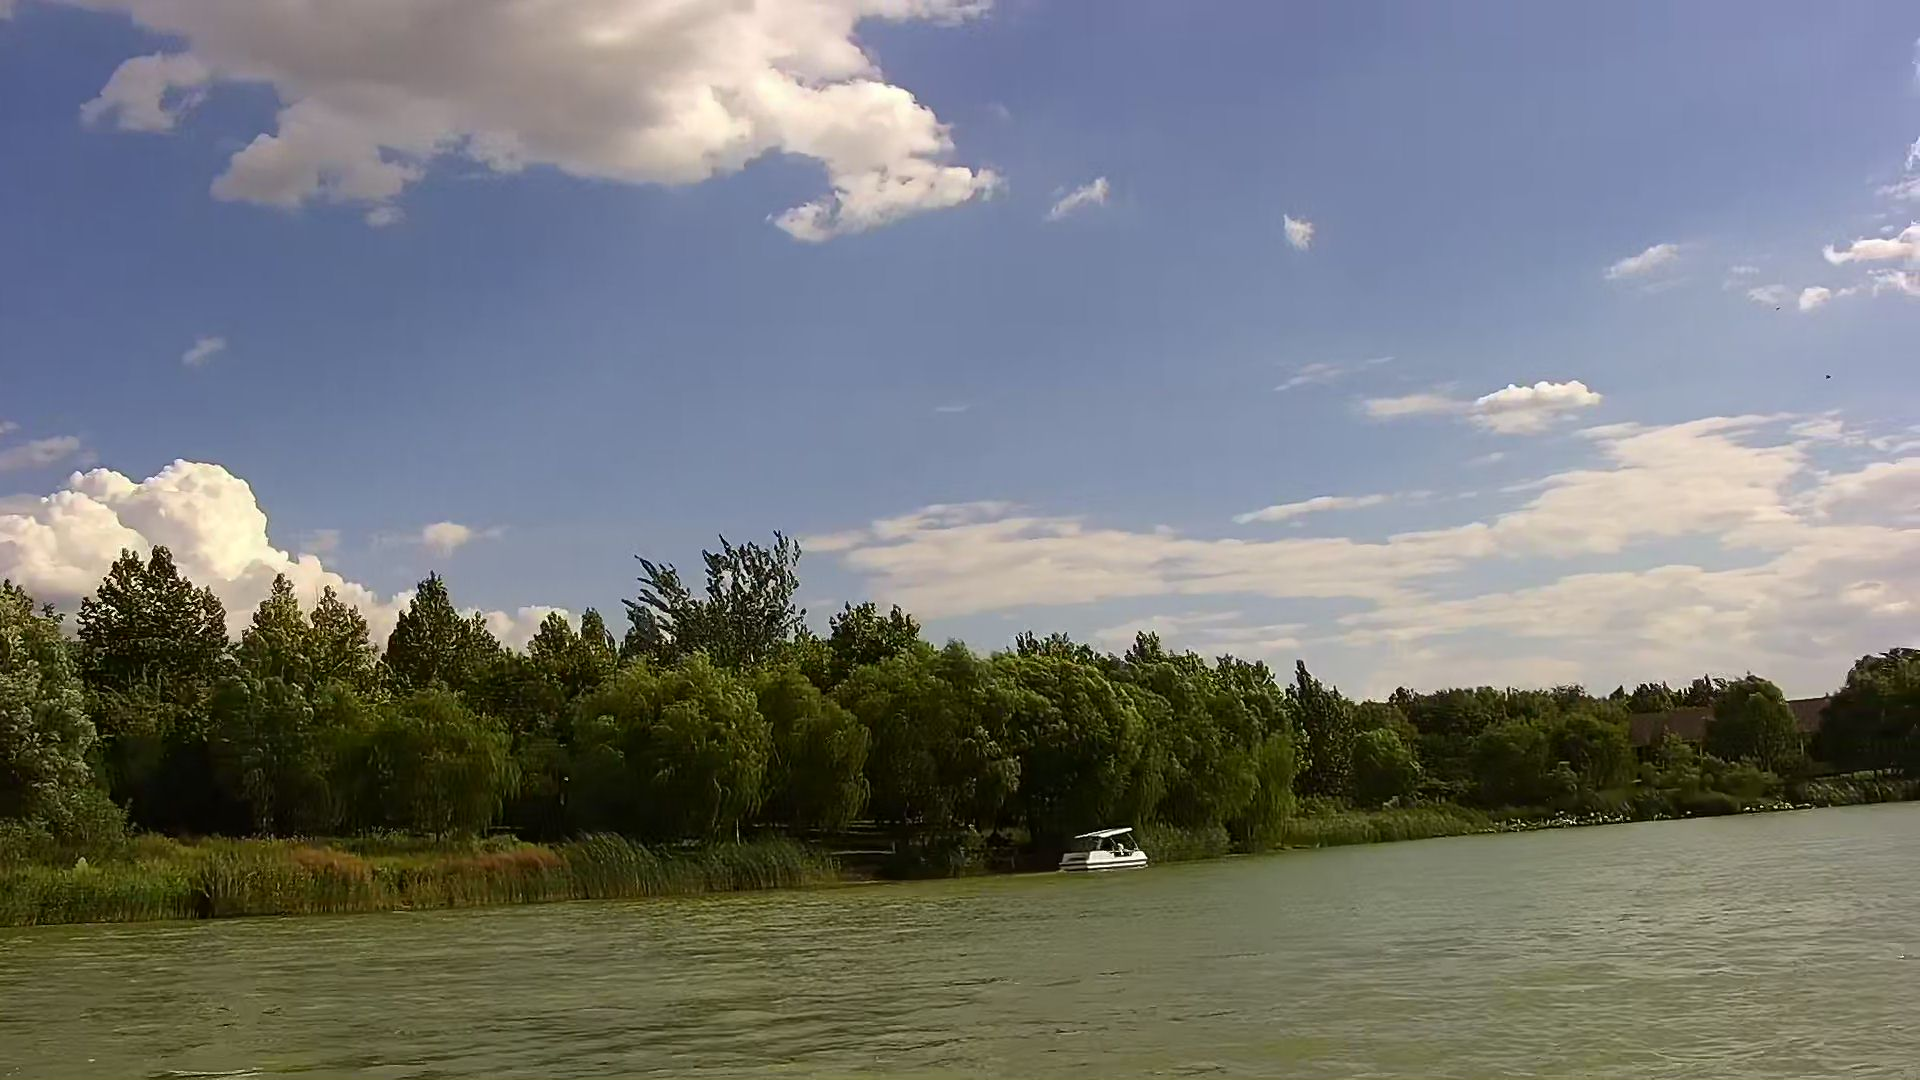boat: (1056, 824, 1143, 876)
